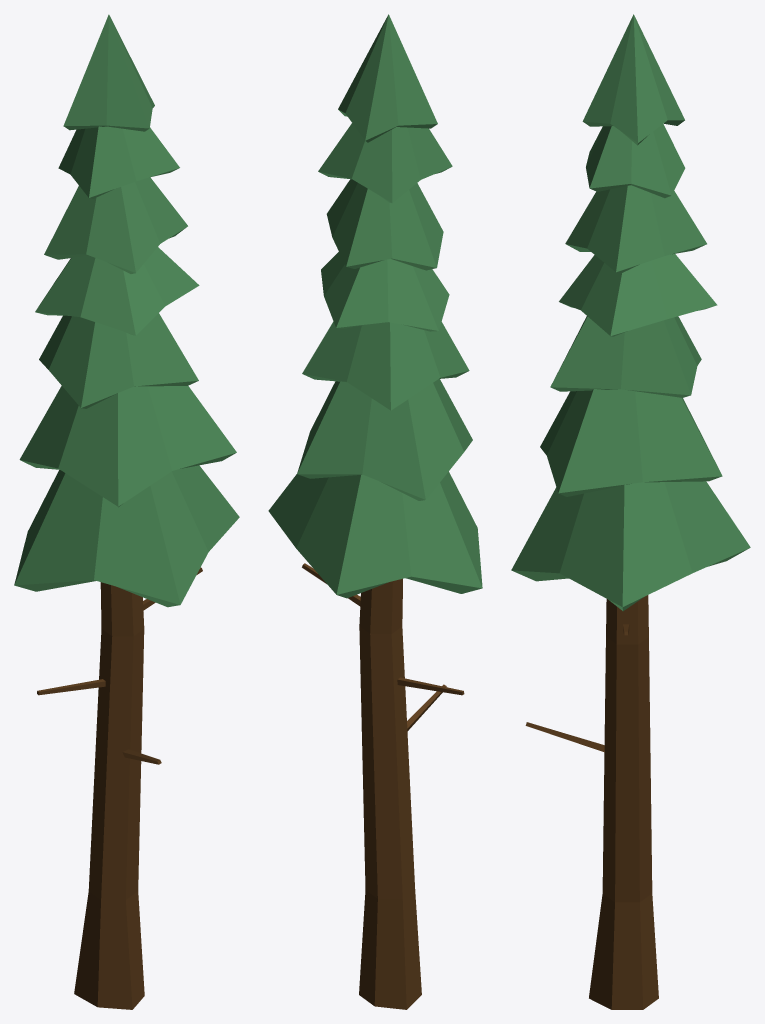
Rendered from taiga.tall.darkgreen-op1.glb.gltf.
3 views of the same model, side by side, from view 1: azimuth 30°, elevation 25°; view 2: azimuth 150°, elevation 25°; view 3: azimuth 270°, elevation 25° (orthographic).
Visible parts, largest first — view 1: Tree5_3; view 2: Tree5_3; view 3: Tree5_3.
Boxes of the visible parts, x1,y1,x2,y2 form: Tree5_3: (14, 14, 239, 1009); Tree5_3: (268, 14, 482, 1009); Tree5_3: (511, 14, 750, 1009).
Size of the model in its own units: 1.92 by 8.2 by 1.81.
Materials: 1 (1 with a texture image).
